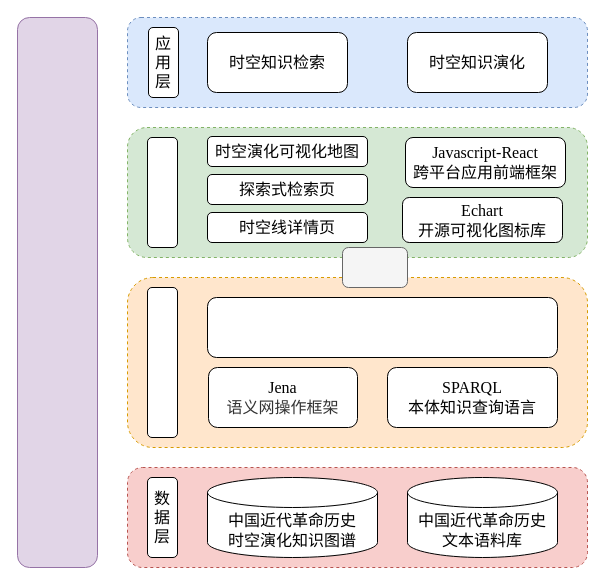
Some shapes in this 605 by 585 pixel diagram are drawn without their labels. Each missing label, with the centre of its shape:
API: [375,267]
Java-SpringBoot 跨平台应用后端服务框架: [382,327]
中 国 近 代 革 命 历 史 时 空 知 识 检 索 与 演 化 信 息 系 统: [57,292]
服务层前端: [162,192]
服务层后端: [162,362]
